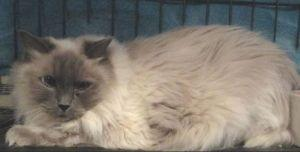siamese: (19, 24, 117, 130)
